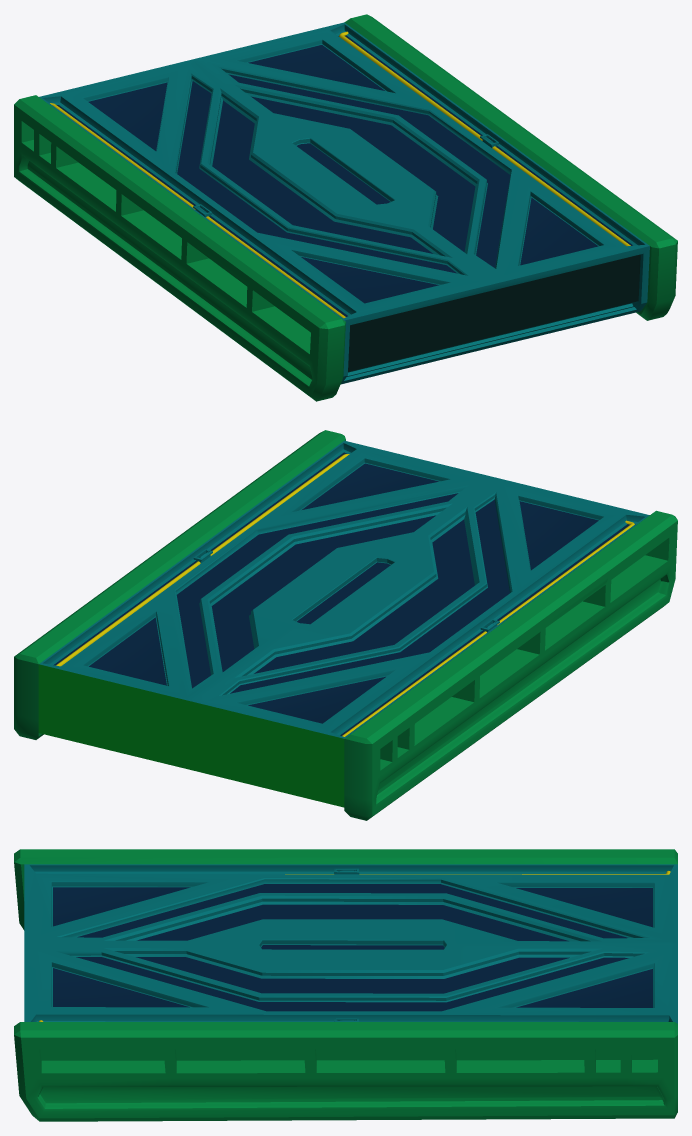
File: OBJ_Plateforme_Normal_17.fbx
The picture shows the model from 3 angles, top to bottom: view 1: azimuth 30°, elevation 25°; view 2: azimuth 150°, elevation 25°; view 3: azimuth 270°, elevation 25°; orthographic projection. The views are drawn at different scales.
Parts seen in each view (by area): view 1: Platform026; view 2: Platform026; view 3: Platform026.
Boxes of the visible parts, box(x1,y1,x2,y2) form: Platform026: box(14, 14, 677, 401); Platform026: box(14, 430, 677, 820); Platform026: box(14, 849, 677, 1121).
Size of the model in its own units: 2012 by 458 by 3018.
